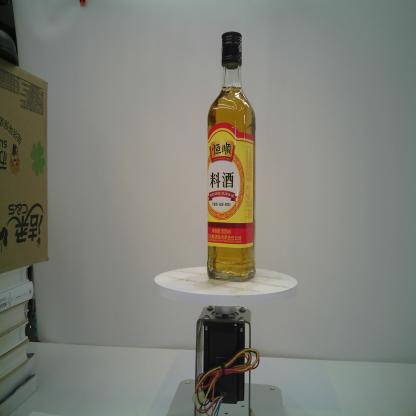Seasoner: (204, 30, 257, 282)
